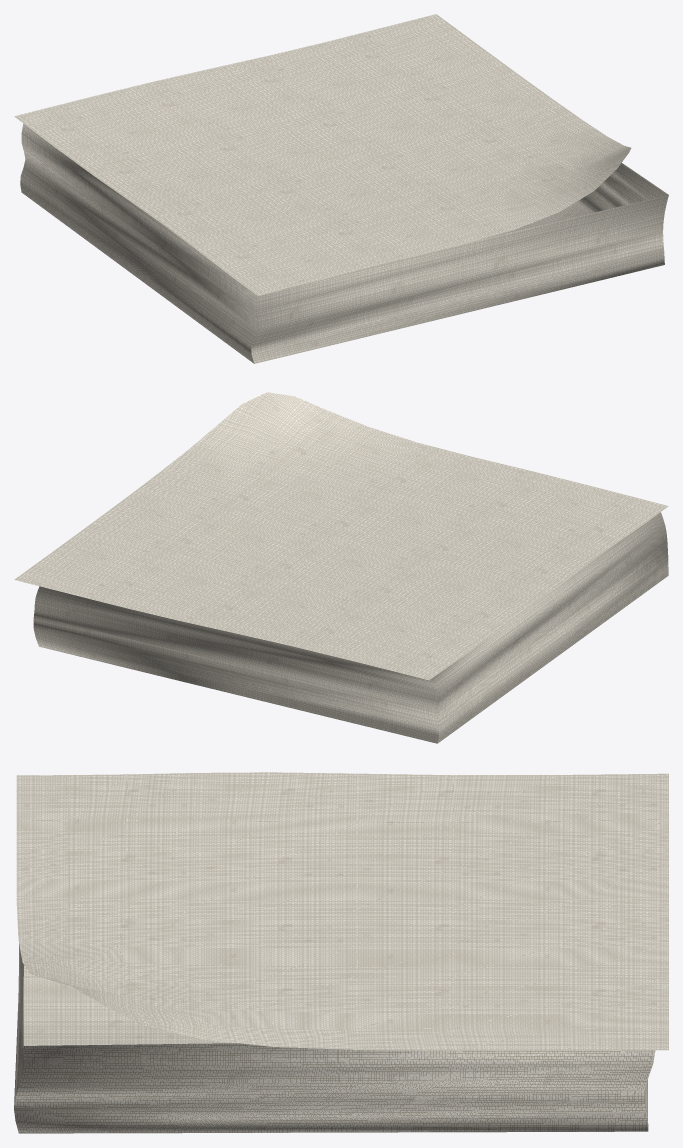
File: SM_MourningCloth_Stack_Voi.glb
3 renders of one model, top to bottom at view 1: azimuth 30°, elevation 25°; view 2: azimuth 150°, elevation 25°; view 3: azimuth 270°, elevation 25°, orthographic. The views are drawn at different scales.
Visible parts, largest first — view 1: SM_MourningCloth_Stack_Voi.001; view 2: SM_MourningCloth_Stack_Voi.001; view 3: SM_MourningCloth_Stack_Voi.001.
Part boxes in pixels (bbox=[...]): SM_MourningCloth_Stack_Voi.001: bbox=[14, 14, 668, 363]; SM_MourningCloth_Stack_Voi.001: bbox=[14, 392, 668, 743]; SM_MourningCloth_Stack_Voi.001: bbox=[14, 772, 668, 1133].
Size of the model in its own units: 0.3142 by 0.073 by 0.3132.
Materials: 1 (1 with a texture image).
